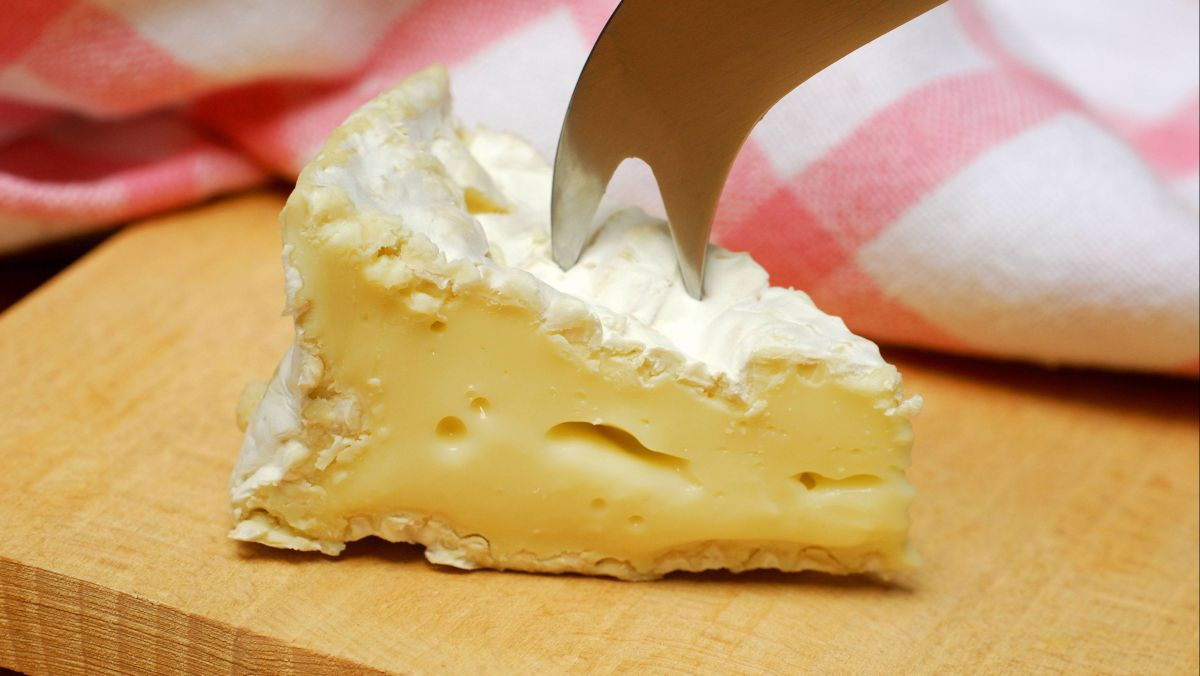camembert: (224, 58, 928, 595)
